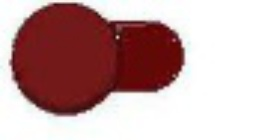Switch: (1, 1, 255, 139)
